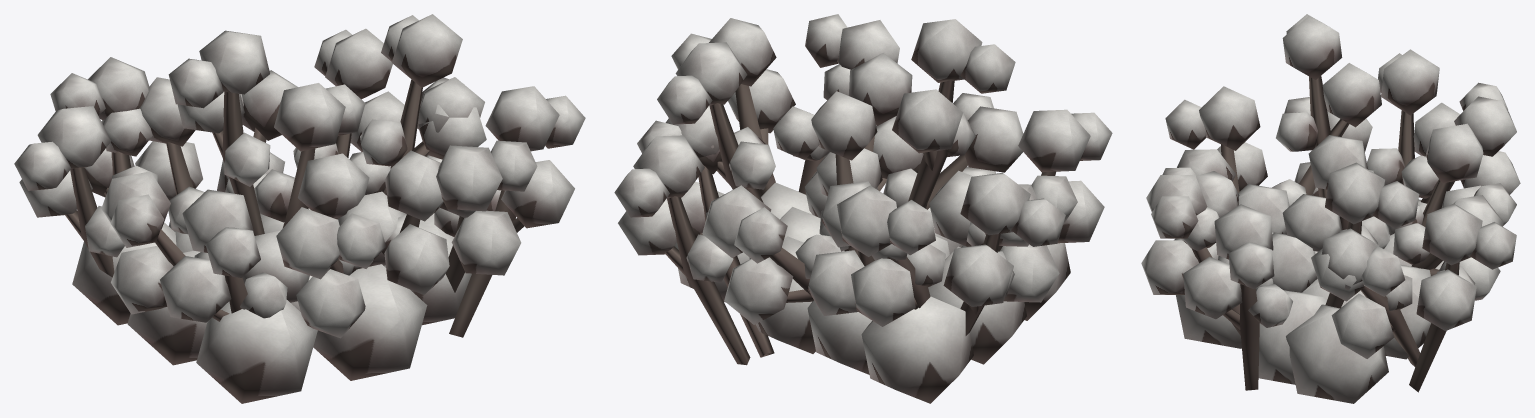
File: BO_Sin1_basket_cotton.FBX
3 renders of one model, left to right at view 1: azimuth 30°, elevation 25°; view 2: azimuth 150°, elevation 25°; view 3: azimuth 270°, elevation 25°, orthographic. The views are drawn at different scales.
Parts seen in each view (by area): view 1: BO_Sin1_Cotton034; view 2: BO_Sin1_Cotton034; view 3: BO_Sin1_Cotton034.
Part boxes in pixels (x1,y1,x2,y2): BO_Sin1_Cotton034: [14, 14, 585, 403]; BO_Sin1_Cotton034: [614, 14, 1112, 403]; BO_Sin1_Cotton034: [1141, 14, 1520, 403].
Bounding box in the file's own units: 59.44 × 41.45 × 46.38.
